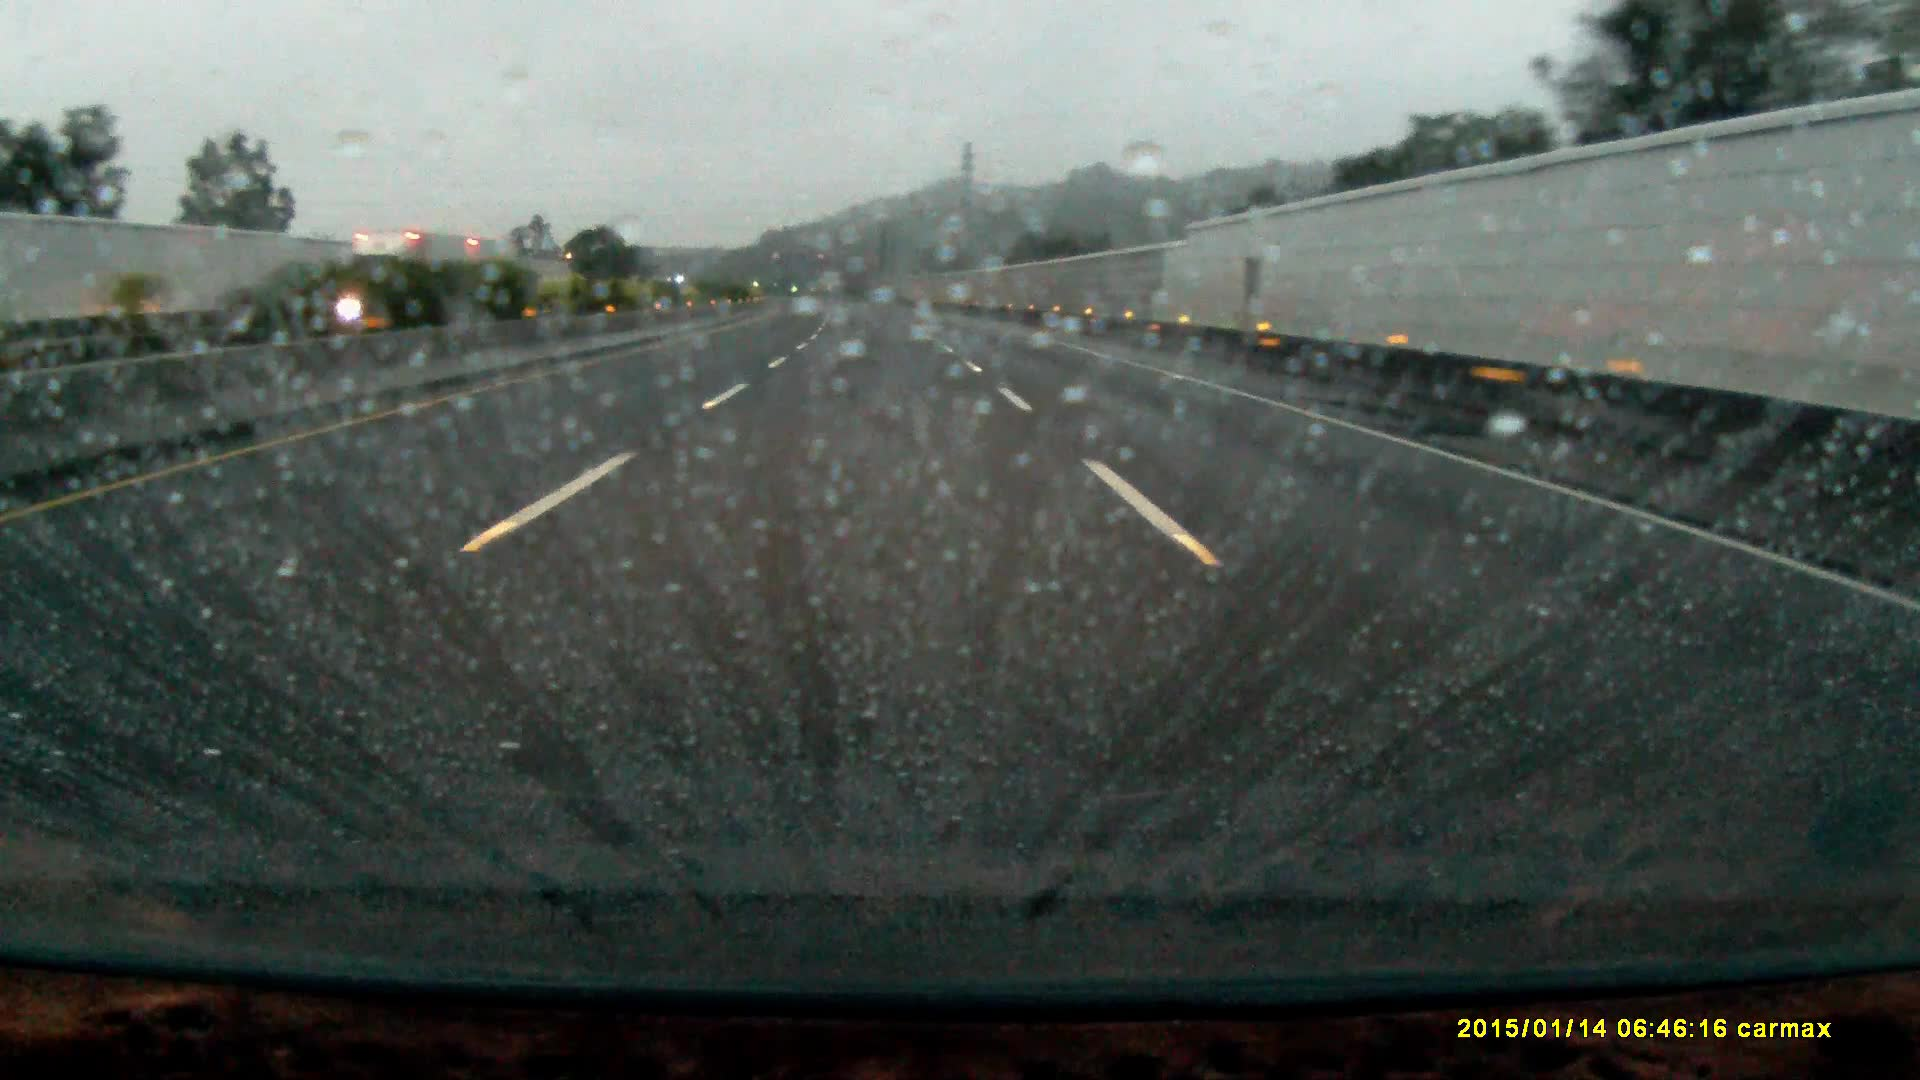vehicle: (335, 229, 509, 324)
